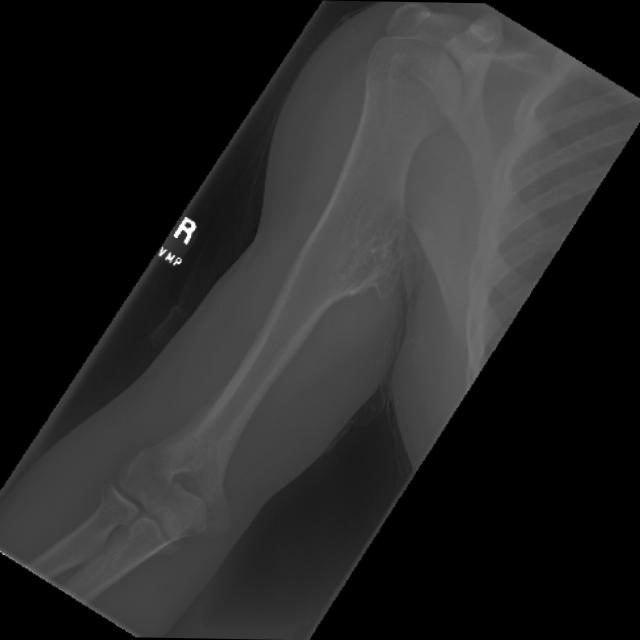humerus fracture: (308, 206, 407, 340)
